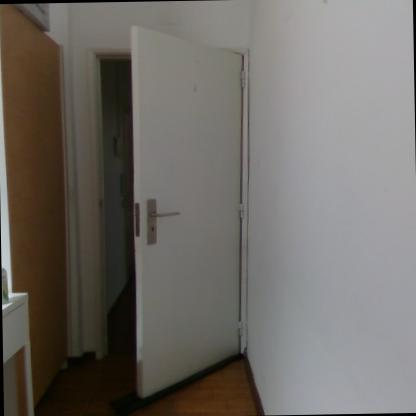semi: (63, 30, 258, 402)
